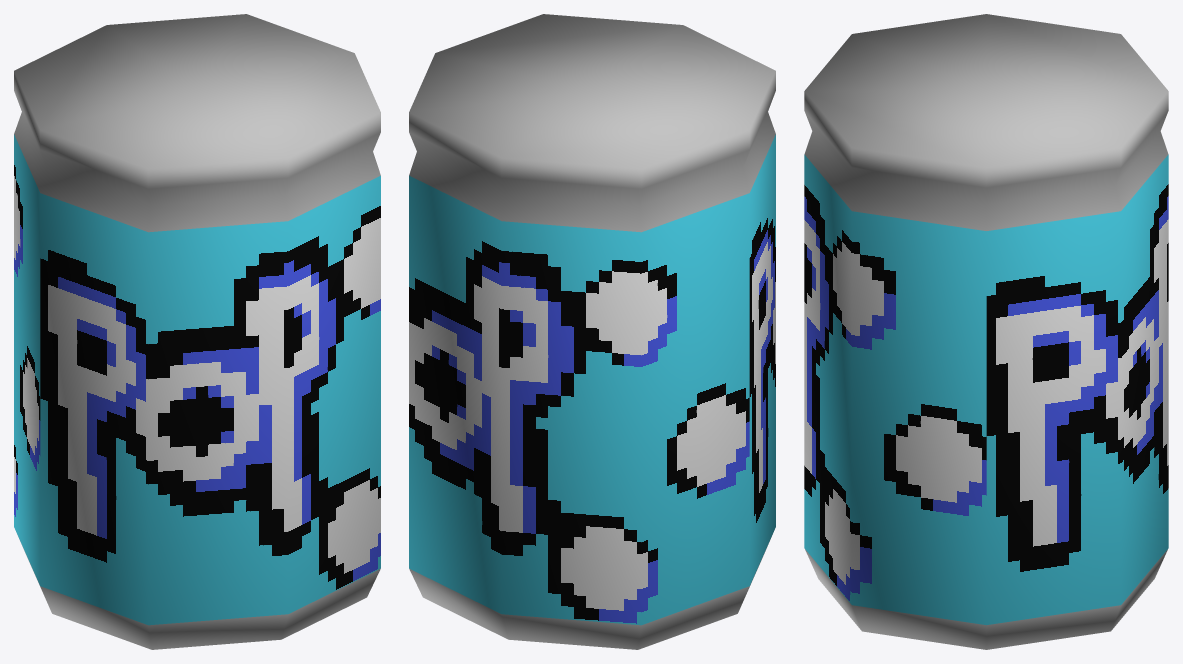
Rendered from Soda.fbx.
3 views of the same model, side by side, from view 1: azimuth 30°, elevation 25°; view 2: azimuth 150°, elevation 25°; view 3: azimuth 270°, elevation 25° (orthographic).
Visible parts, largest first — view 1: Cube; view 2: Cube; view 3: Cube.
Part boxes in pixels (x1,y1,x2,y2): Cube: (14, 14, 380, 649); Cube: (409, 14, 775, 649); Cube: (804, 14, 1168, 649).
Bounding box in the file's own units: 27.04 × 27.04 × 40.
